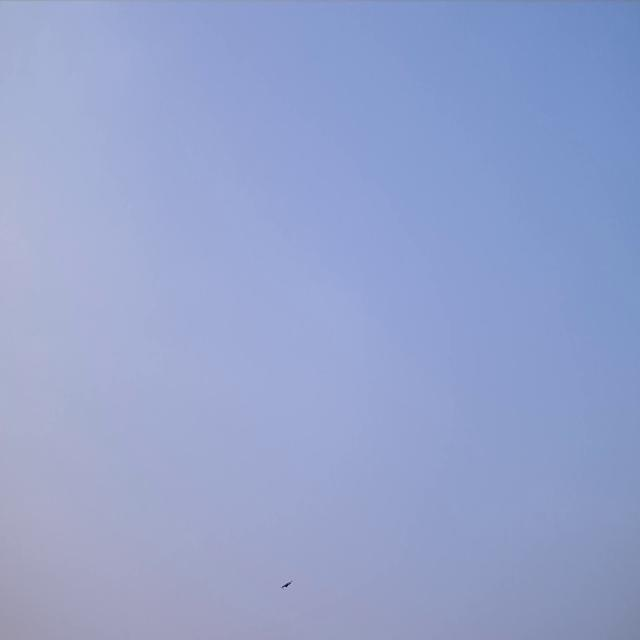UAV: (280, 578, 293, 590)
